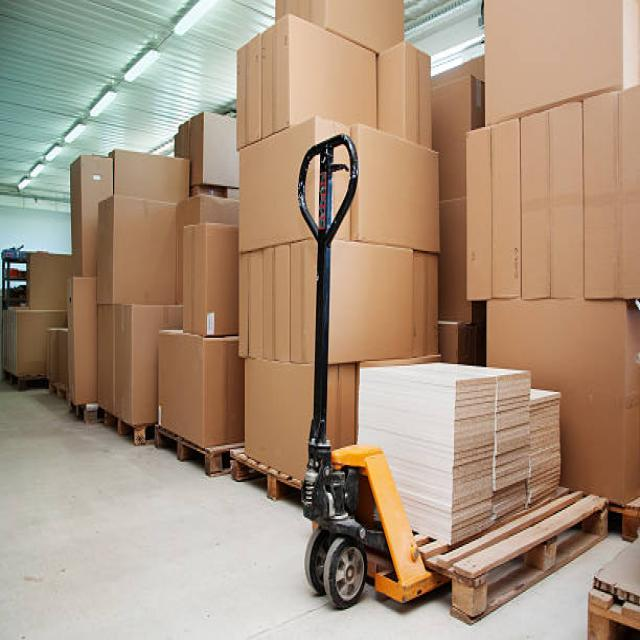Wooden-Pallets: (444, 490, 609, 632), (145, 418, 219, 491)
